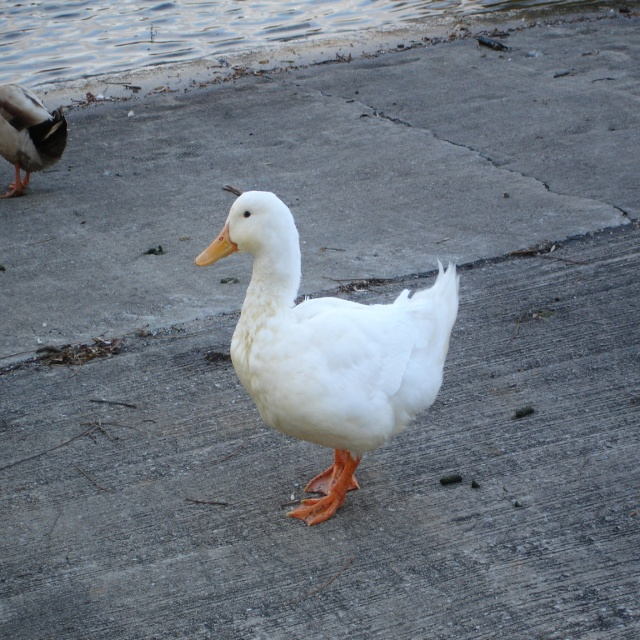Duck: (192, 173, 463, 536), (0, 78, 67, 202)
